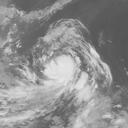cyclone: (42, 54, 80, 88)
